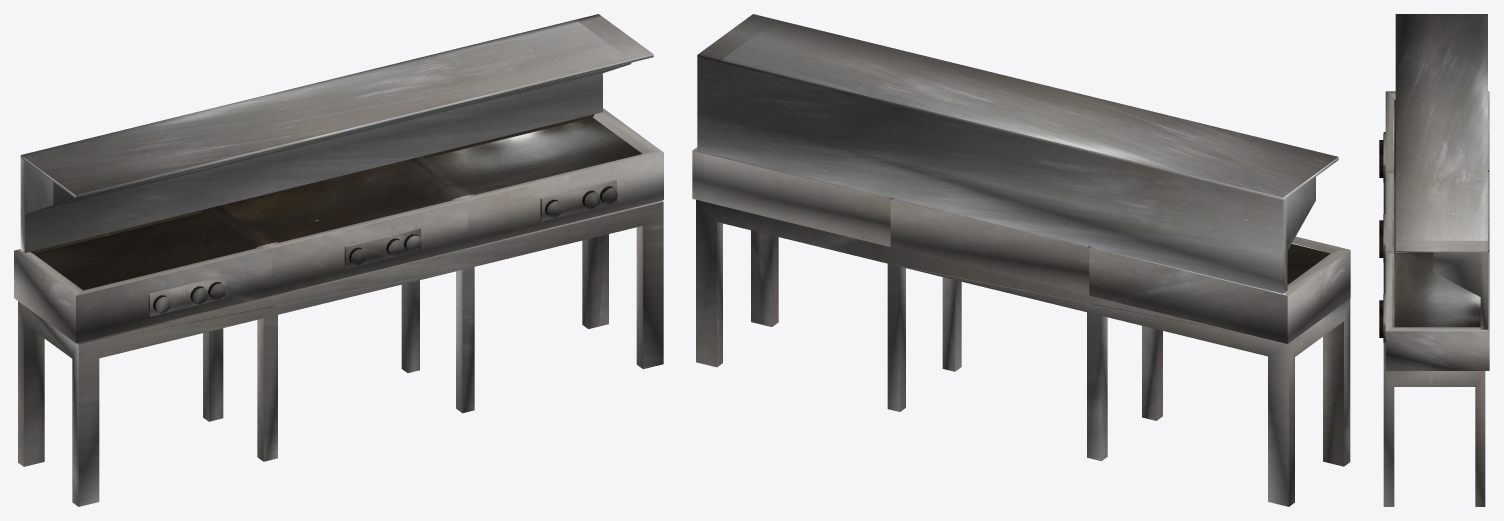
The model's file is FlatTopGrill.obj.
The picture shows the model from 3 angles, left to right: view 1: azimuth 30°, elevation 25°; view 2: azimuth 150°, elevation 25°; view 3: azimuth 270°, elevation 25°; orthographic projection. The views are drawn at different scales.
Parts seen in each view (by area): view 1: FlatTopGrill.obj; view 2: FlatTopGrill.obj; view 3: FlatTopGrill.obj.
Boxes of the visible parts, left/top/right/bottom form: FlatTopGrill.obj: left=14, top=14, right=663, bottom=506; FlatTopGrill.obj: left=692, top=14, right=1350, bottom=506; FlatTopGrill.obj: left=1379, top=14, right=1489, bottom=506.
Size of the model in its own units: 19.52 by 9.69 by 3.78.
